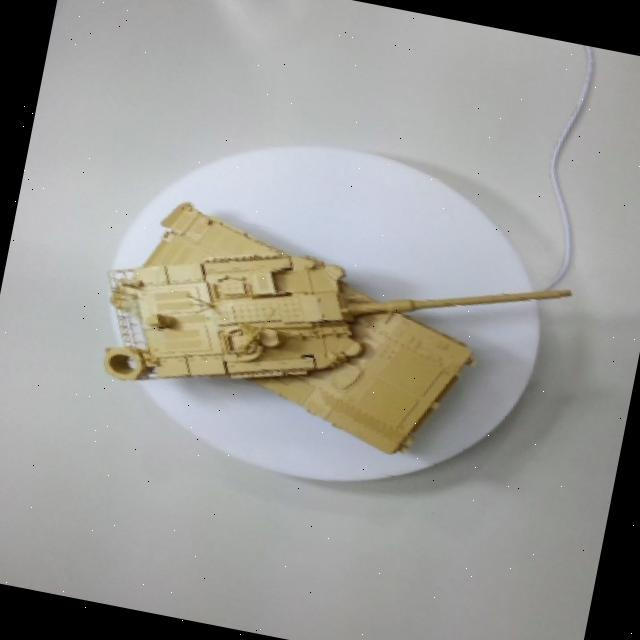korea tank: (46, 131, 595, 524)
